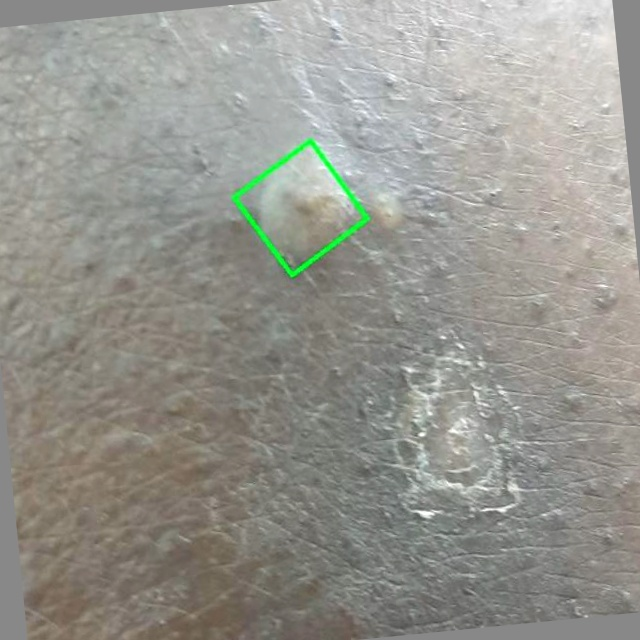Seborrheic Dermatitis: (233, 141, 367, 275)
